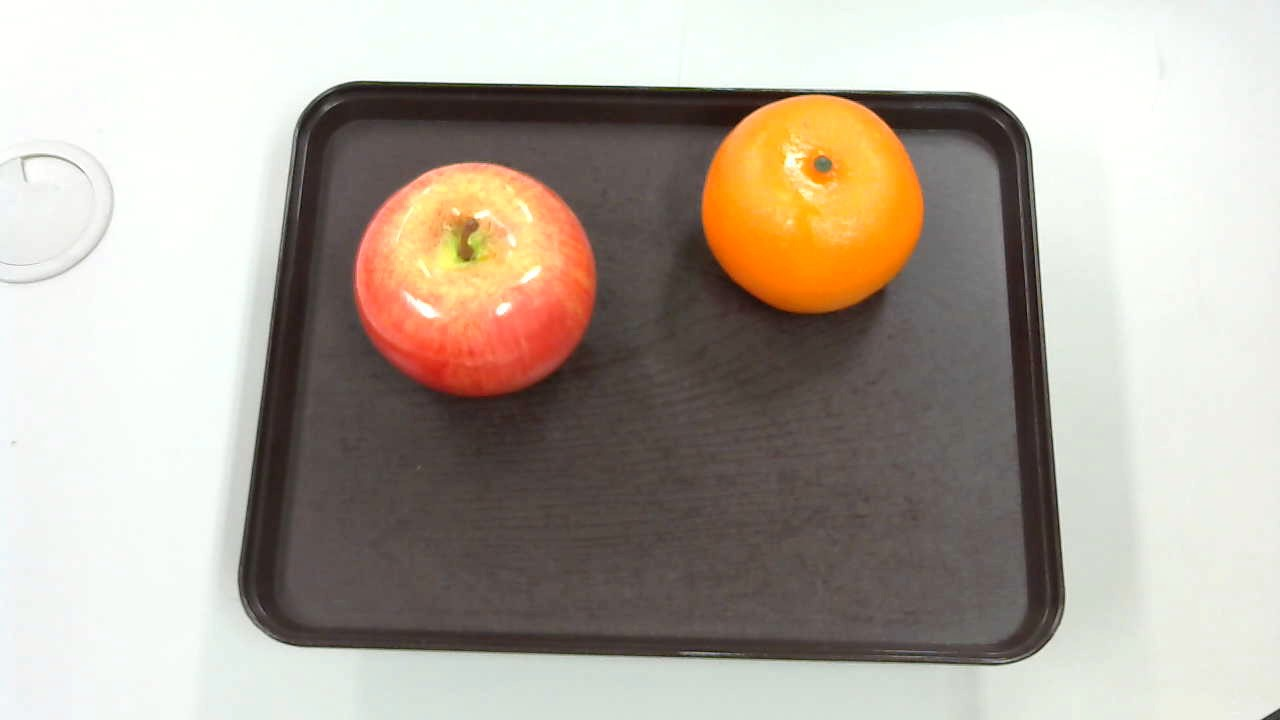orange: (702, 91, 923, 313)
red apple: (352, 163, 596, 400)
